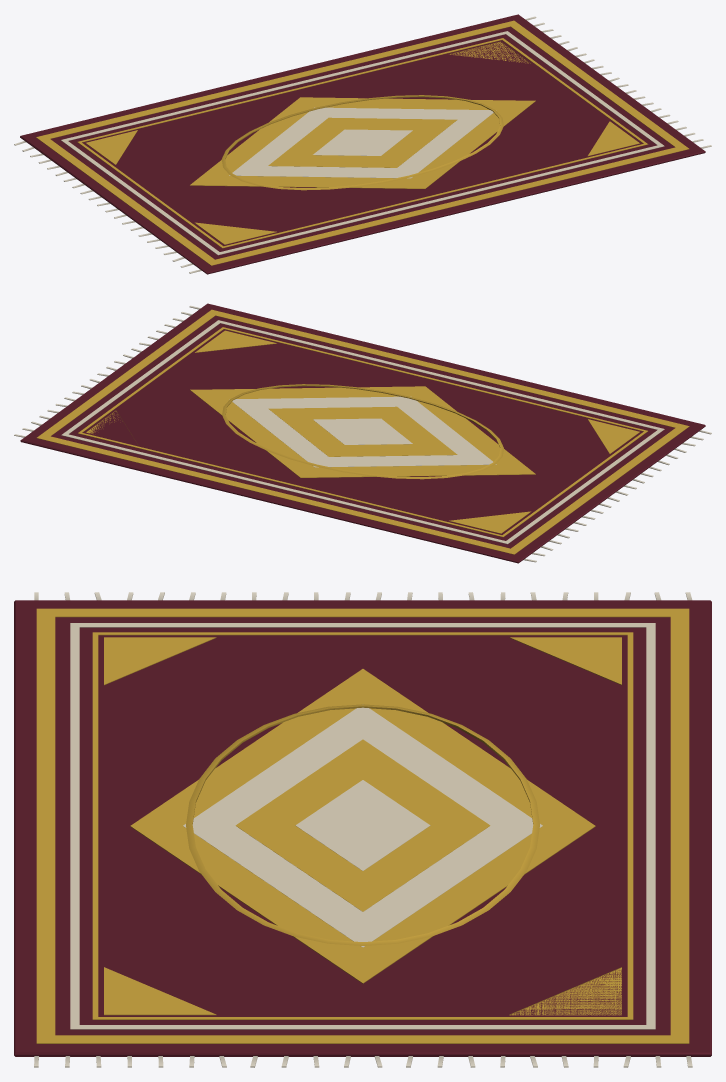
The model's file is rug_funeral.glb.
3 renders of one model, top to bottom at view 1: azimuth 30°, elevation 25°; view 2: azimuth 150°, elevation 25°; view 3: azimuth 270°, elevation 25°, orthographic. The views are drawn at different scales.
Parts seen in each view (by area): view 1: rug_funeral; view 2: rug_funeral; view 3: rug_funeral.
Boxes of the visible parts, x1,y1,x2,y2 form: rug_funeral: [14, 14, 711, 274]; rug_funeral: [14, 303, 711, 563]; rug_funeral: [14, 592, 711, 1067].
Size of the model in its own units: 2.99 by 0.0191 by 1.86.
